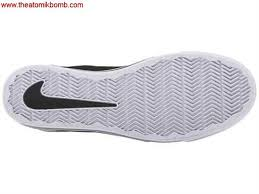nike: (13, 67, 134, 125)
